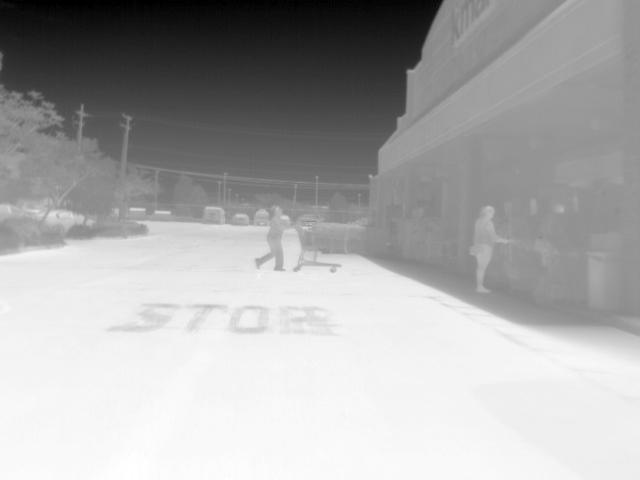car: (249, 206, 273, 228), (204, 204, 228, 224), (228, 212, 251, 227)
person: (469, 204, 511, 294), (254, 205, 290, 271)
